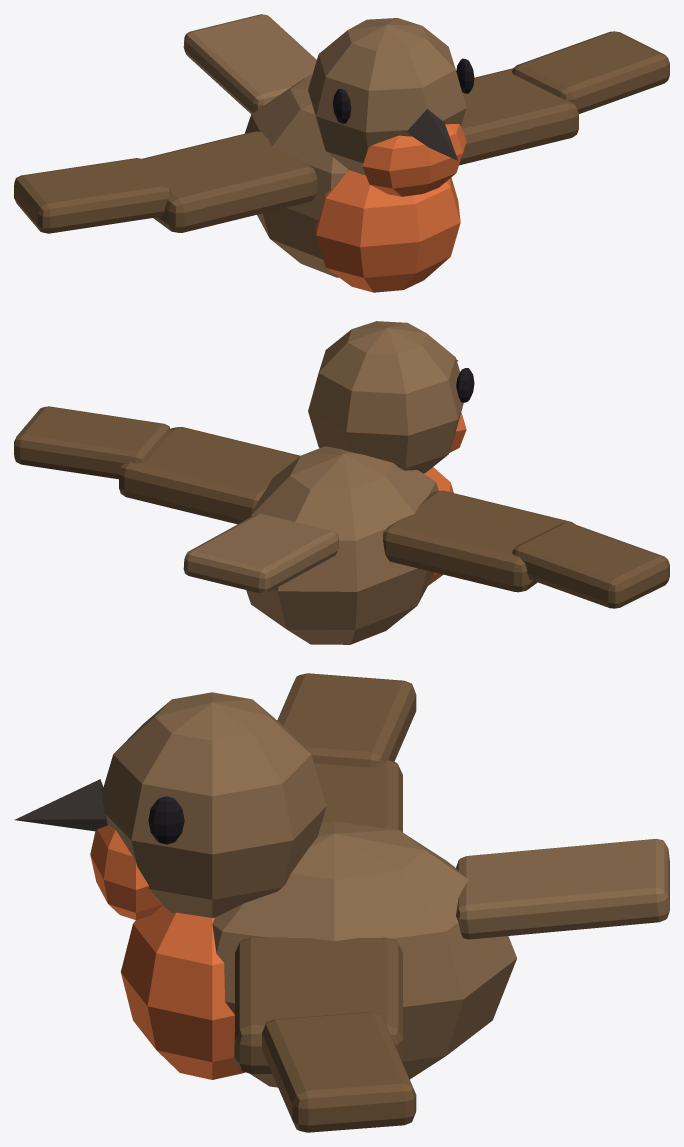
File: robin_flying.glb
3 renders of one model, top to bottom at view 1: azimuth 30°, elevation 25°; view 2: azimuth 150°, elevation 25°; view 3: azimuth 270°, elevation 25°, orthographic. The views are drawn at different scales.
Parts seen in each view (by area): view 1: body_mesh, head_mesh, wing_r_mesh, wing_l_mesh; view 2: body_mesh, wing_r_mesh, head_mesh, wing_l_mesh; view 3: body_mesh, head_mesh, wing_l_mesh, wing_r_mesh.
Part boxes in pixels (x1=…): body_mesh: x1=183, y1=14, x2=460, y2=292; head_mesh: x1=308, y1=18, x2=474, y2=196; wing_r_mesh: x1=14, y1=131, x2=317, y2=233; wing_l_mesh: x1=459, y1=31, x2=669, y2=165; body_mesh: x1=183, y1=446, x2=453, y2=644; wing_r_mesh: x1=383, y1=490, x2=669, y2=608; head_mesh: x1=308, y1=321, x2=474, y2=473; wing_l_mesh: x1=14, y1=406, x2=300, y2=524; body_mesh: x1=121, y1=821, x2=669, y2=1087; head_mesh: x1=14, y1=692, x2=326, y2=919; wing_l_mesh: x1=235, y1=937, x2=416, y2=1132; wing_r_mesh: x1=277, y1=673, x2=416, y2=832.
Bounding box in the file's own units: 0.665 × 0.275 × 0.4301.
